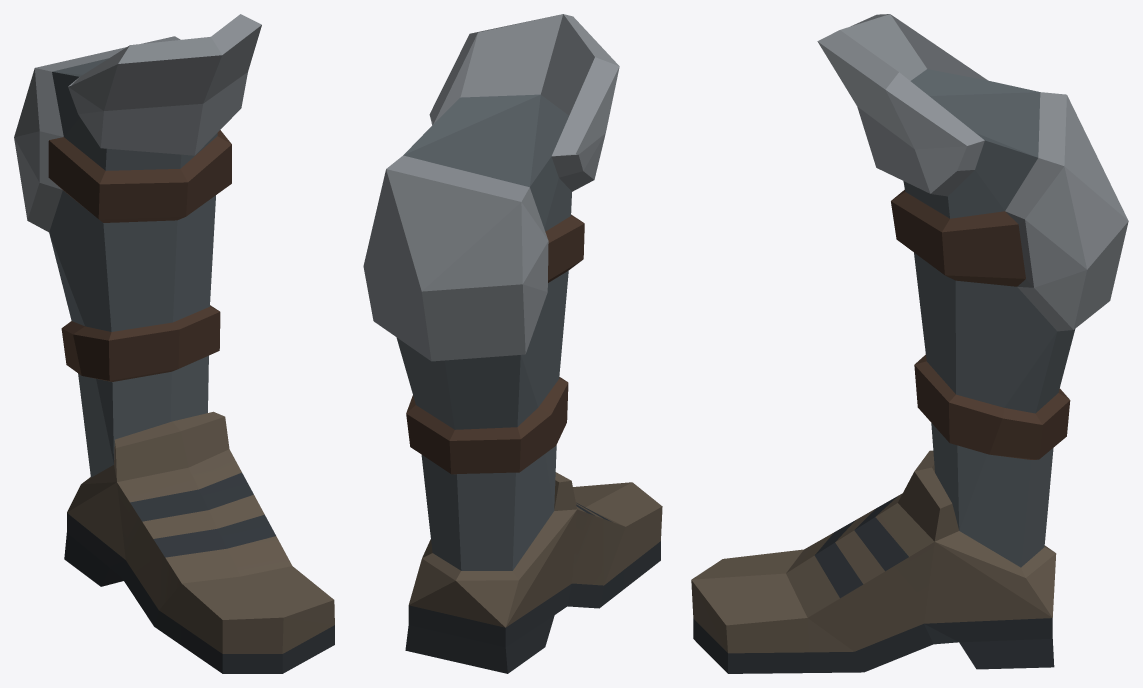
Rendered from Chr_LegRight_Male_10_Static.fbx.
3 renders of one model, left to right at view 1: azimuth 30°, elevation 25°; view 2: azimuth 150°, elevation 25°; view 3: azimuth 270°, elevation 25°, orthographic. The views are drawn at different scales.
Visible parts, largest first — view 1: Chr_LegRight_Male_10_Static; view 2: Chr_LegRight_Male_10_Static; view 3: Chr_LegRight_Male_10_Static.
Part boxes in pixels (x1,y1,x2,y2): Chr_LegRight_Male_10_Static: [14, 14, 334, 673]; Chr_LegRight_Male_10_Static: [363, 14, 662, 673]; Chr_LegRight_Male_10_Static: [691, 14, 1128, 673].
Bounding box in the file's own units: 0.1326 × 0.4546 × 0.2962.
